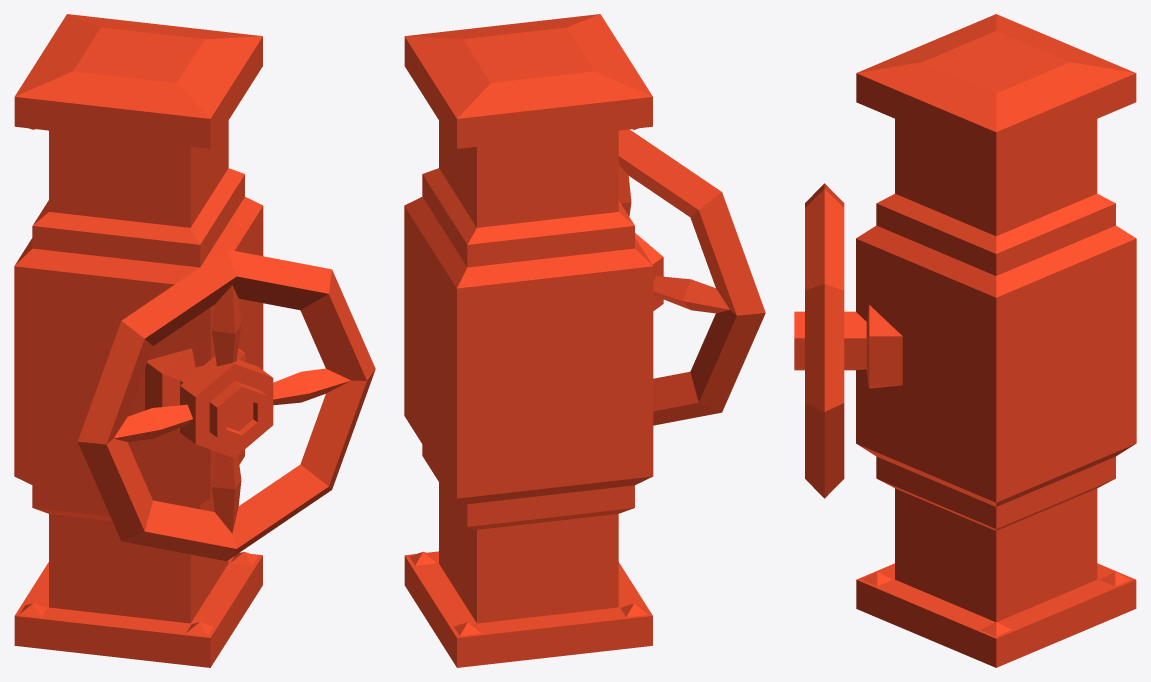
The model's file is SM_Pipe_Lever_B_City.fbx.
3 views of the same model, side by side, from view 1: azimuth 30°, elevation 25°; view 2: azimuth 150°, elevation 25°; view 3: azimuth 270°, elevation 25° (orthographic). The views are drawn at different scales.
Visible parts, largest first — view 1: SM_Pipe_Lever_B_City; view 2: SM_Pipe_Lever_B_City; view 3: SM_Pipe_Lever_B_City.
Boxes of the visible parts, x1,y1,x2,y2 form: SM_Pipe_Lever_B_City: (14, 14, 375, 667); SM_Pipe_Lever_B_City: (404, 14, 765, 667); SM_Pipe_Lever_B_City: (794, 14, 1136, 667).
Bounding box in the file's own units: 0.1114 × 0.204 × 0.1135.
